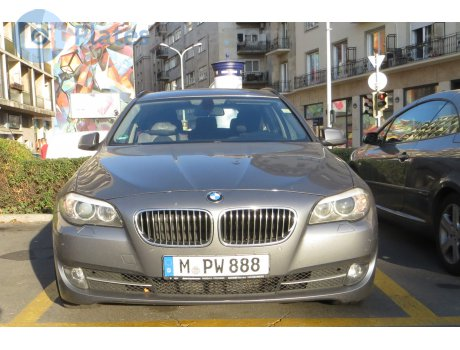License Plates: (171, 258, 269, 275)
